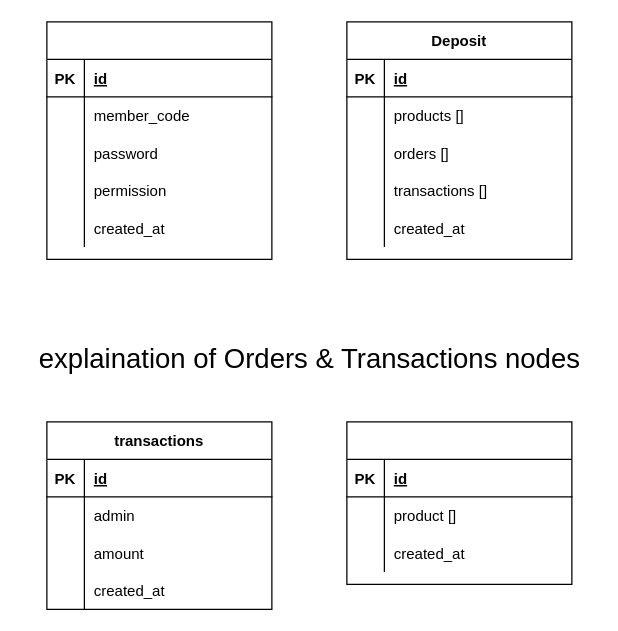
Image size: 618x631. Some labels were removed from this diagram. Each missing label, with the box of its shape:
Orders: (346, 421, 572, 584)
User: (46, 21, 272, 259)
